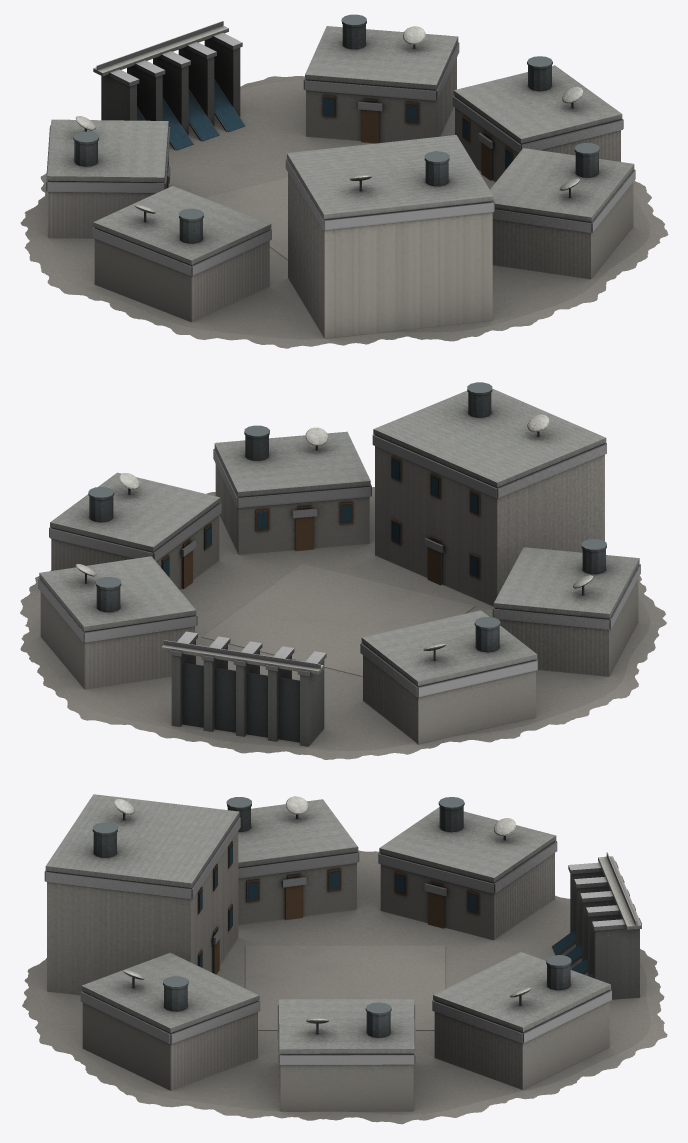
The model's file is modern-town-small-b-nile.glb.
3 views of the same model, one above another, from view 1: azimuth 30°, elevation 25°; view 2: azimuth 150°, elevation 25°; view 3: azimuth 270°, elevation 25° (orthographic).
Parts seen in each view (by area): view 1: LOD0; view 2: LOD0; view 3: LOD0.
Boxes of the visible parts, x1=… form: LOD0: x1=20, y1=14, x2=668, y2=348; LOD0: x1=20, y1=382, x2=666, y2=759; LOD0: x1=22, y1=794, x2=667, y2=1124.
Size of what is drawn, in the model's own units: 3.99 by 1.03 by 3.97.
3 materials, 3 textured.
